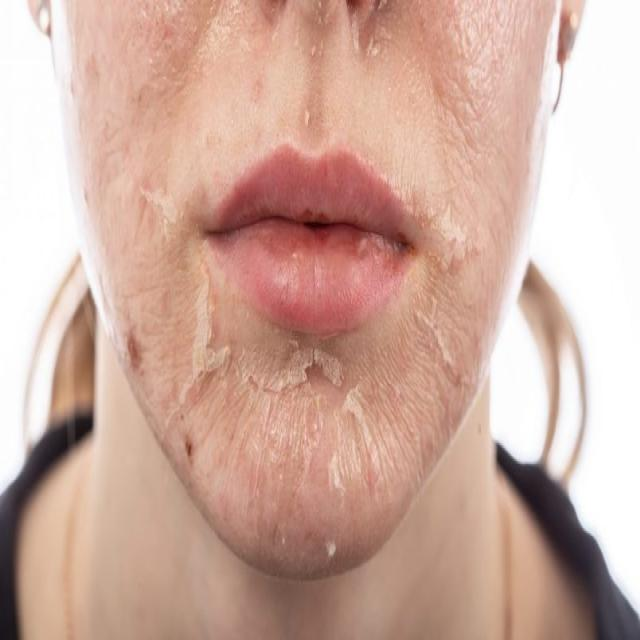flakiness: (136, 194, 492, 508)
